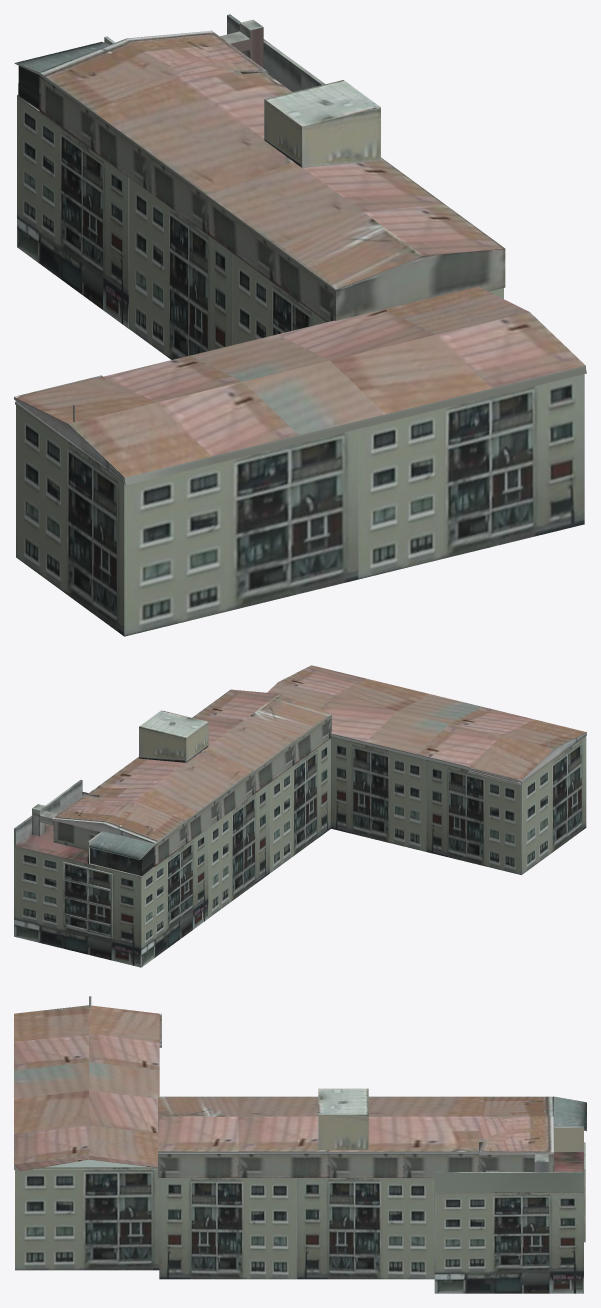
3 renders of one model, top to bottom at view 1: azimuth 30°, elevation 25°; view 2: azimuth 150°, elevation 25°; view 3: azimuth 270°, elevation 25°, orthographic. The views are drawn at different scales.
Parts seen in each view (by area): view 1: ortoedificio-frontal-frontal.006; view 2: ortoedificio-frontal-frontal.006; view 3: ortoedificio-frontal-frontal.006.
Part boxes in pixels (<box>): ortoedificio-frontal-frontal.006: <box>14,14,586,636</box>; ortoedificio-frontal-frontal.006: <box>14,665,586,967</box>; ortoedificio-frontal-frontal.006: <box>14,996,586,1293</box>.
Bounding box in the file's own units: 11.36 × 4.99 × 15.86.
Materials: 3 (3 with a texture image).
